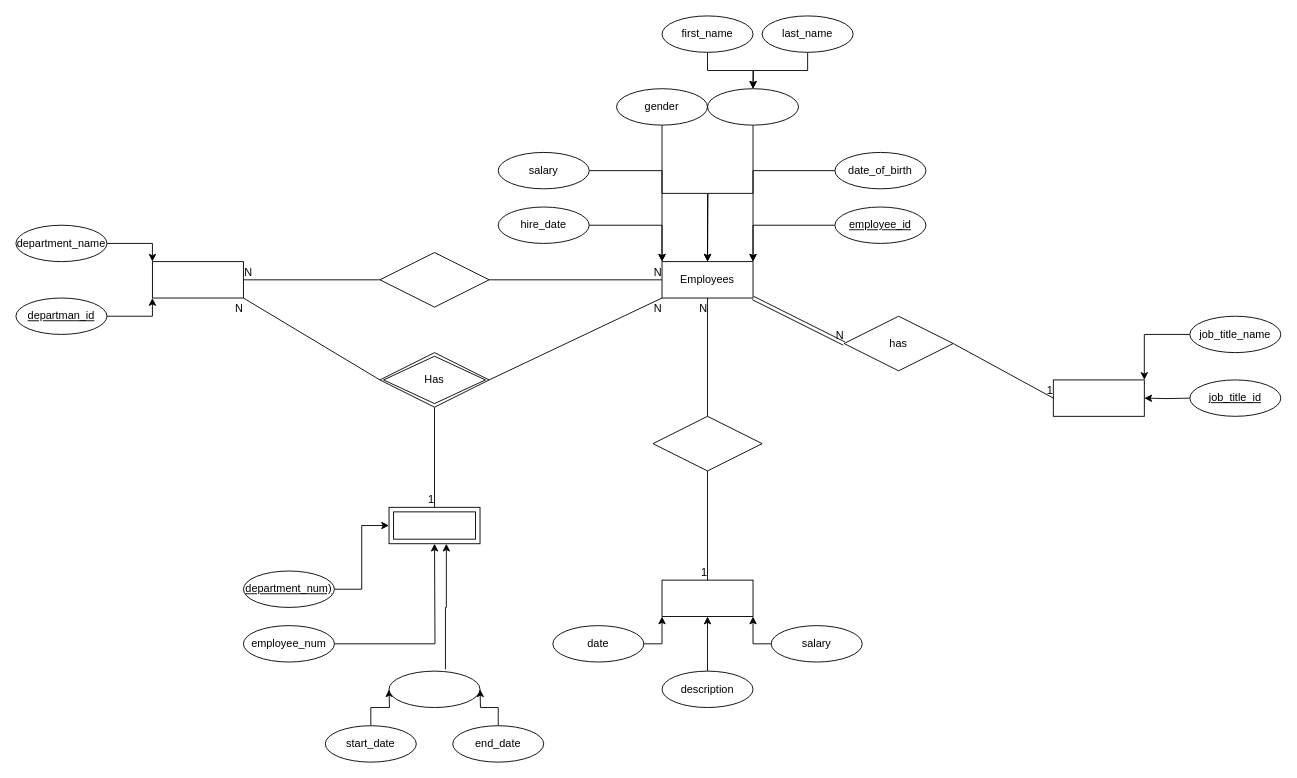
Some shapes in this 1297 by 778 pixel diagram are drawn without their labels. The centre of each missing label's shape, as x and y in pixels:
dates_managed: the point at 434,689
Department Manager: the point at 434,525
Departments: the point at 197,279
Earn: the point at 707,443
Job Title: the point at 1098,397
name: the point at 753,106
Salary Records: the point at 707,598
Work: the point at 434,279
